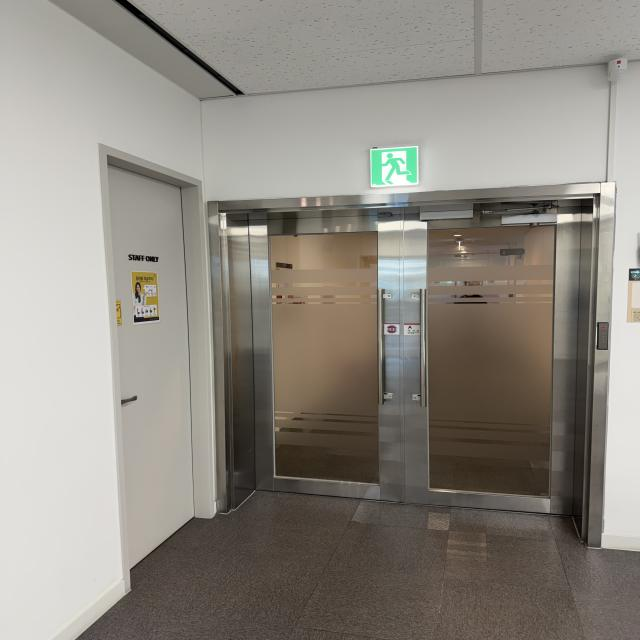rear_door: (219, 196, 601, 519)
